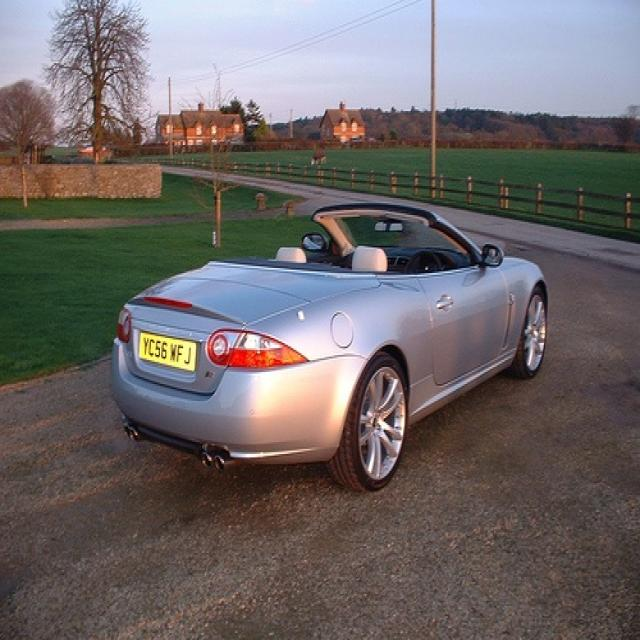car: (108, 198, 552, 495)
